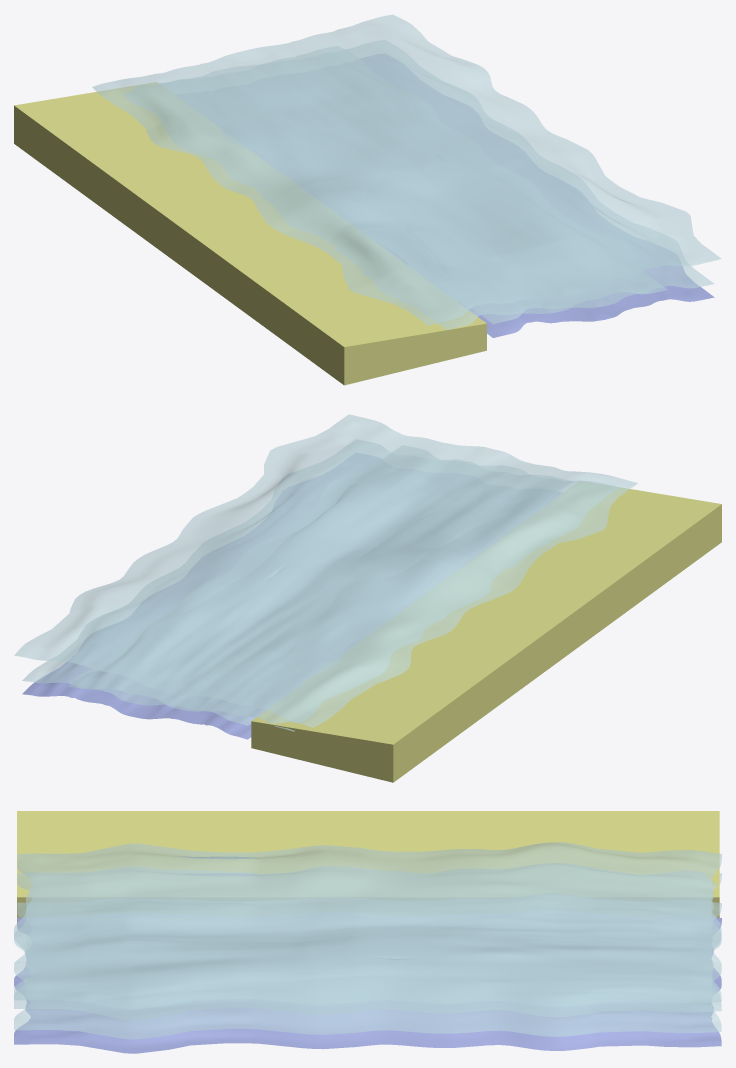
Rendered from Ocean.fbx.
3 renders of one model, top to bottom at view 1: azimuth 30°, elevation 25°; view 2: azimuth 150°, elevation 25°; view 3: azimuth 270°, elevation 25°, orthographic. The views are drawn at different scales.
Visible parts, largest first — view 1: Water, Beach, Water3, Water1, Water2; view 2: Water, Beach, Water3, Water1, Water2; view 3: Water, Water3, Beach, Water1, Water2.
Boxes of the visible parts, x1,y1,x2,y2 form: Water: [92, 14, 721, 325]; Beach: [14, 82, 486, 385]; Water3: [124, 46, 667, 329]; Water1: [167, 40, 713, 324]; Water2: [251, 54, 714, 337]; Water: [14, 414, 637, 727]; Beach: [251, 481, 721, 782]; Water3: [68, 445, 618, 731]; Water1: [22, 439, 568, 725]; Water2: [22, 453, 560, 739]; Water: [14, 842, 721, 1020]; Water3: [14, 863, 721, 1002]; Beach: [17, 811, 719, 923]; Water1: [14, 901, 721, 1039]; Water2: [14, 917, 721, 1053].
Size of the model in its own units: 2410 by 323 by 3489.
